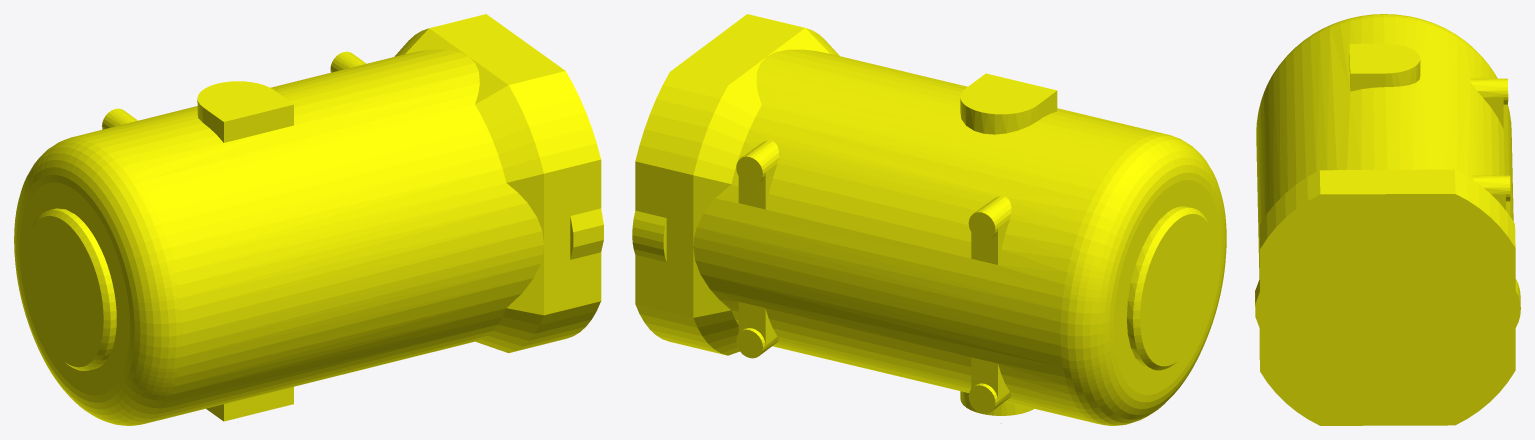
3 renders of one model, left to right at view 1: azimuth 30°, elevation 25°; view 2: azimuth 150°, elevation 25°; view 3: azimuth 270°, elevation 25°, orthographic. The views are drawn at different scales.
Parts seen in each view (by area): view 1: node; view 2: node; view 3: node.
Boxes of the visible parts, <box> form: node: <box>14,14,603,425</box>; node: <box>632,14,1226,425</box>; node: <box>1255,14,1520,425</box>.
Bounding box in the file's own units: 528 × 351 × 302.
